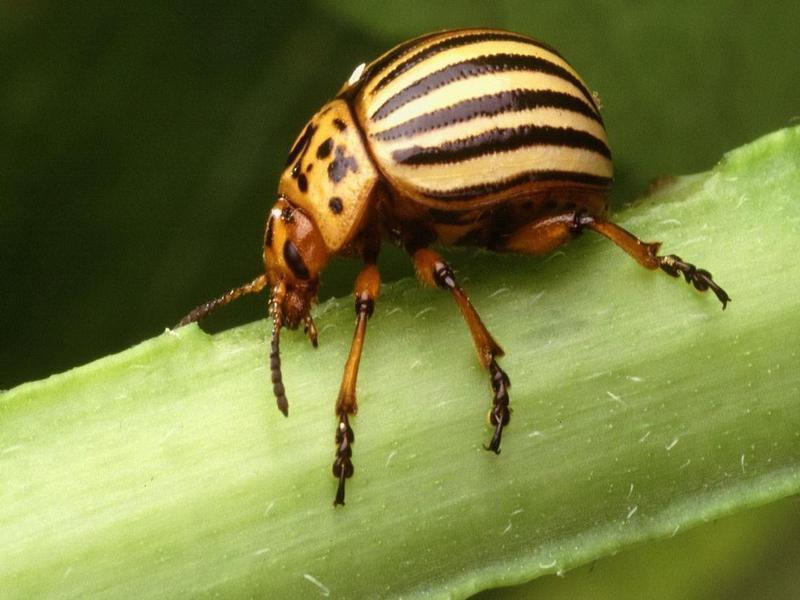hrosc: (248, 29, 640, 424)
